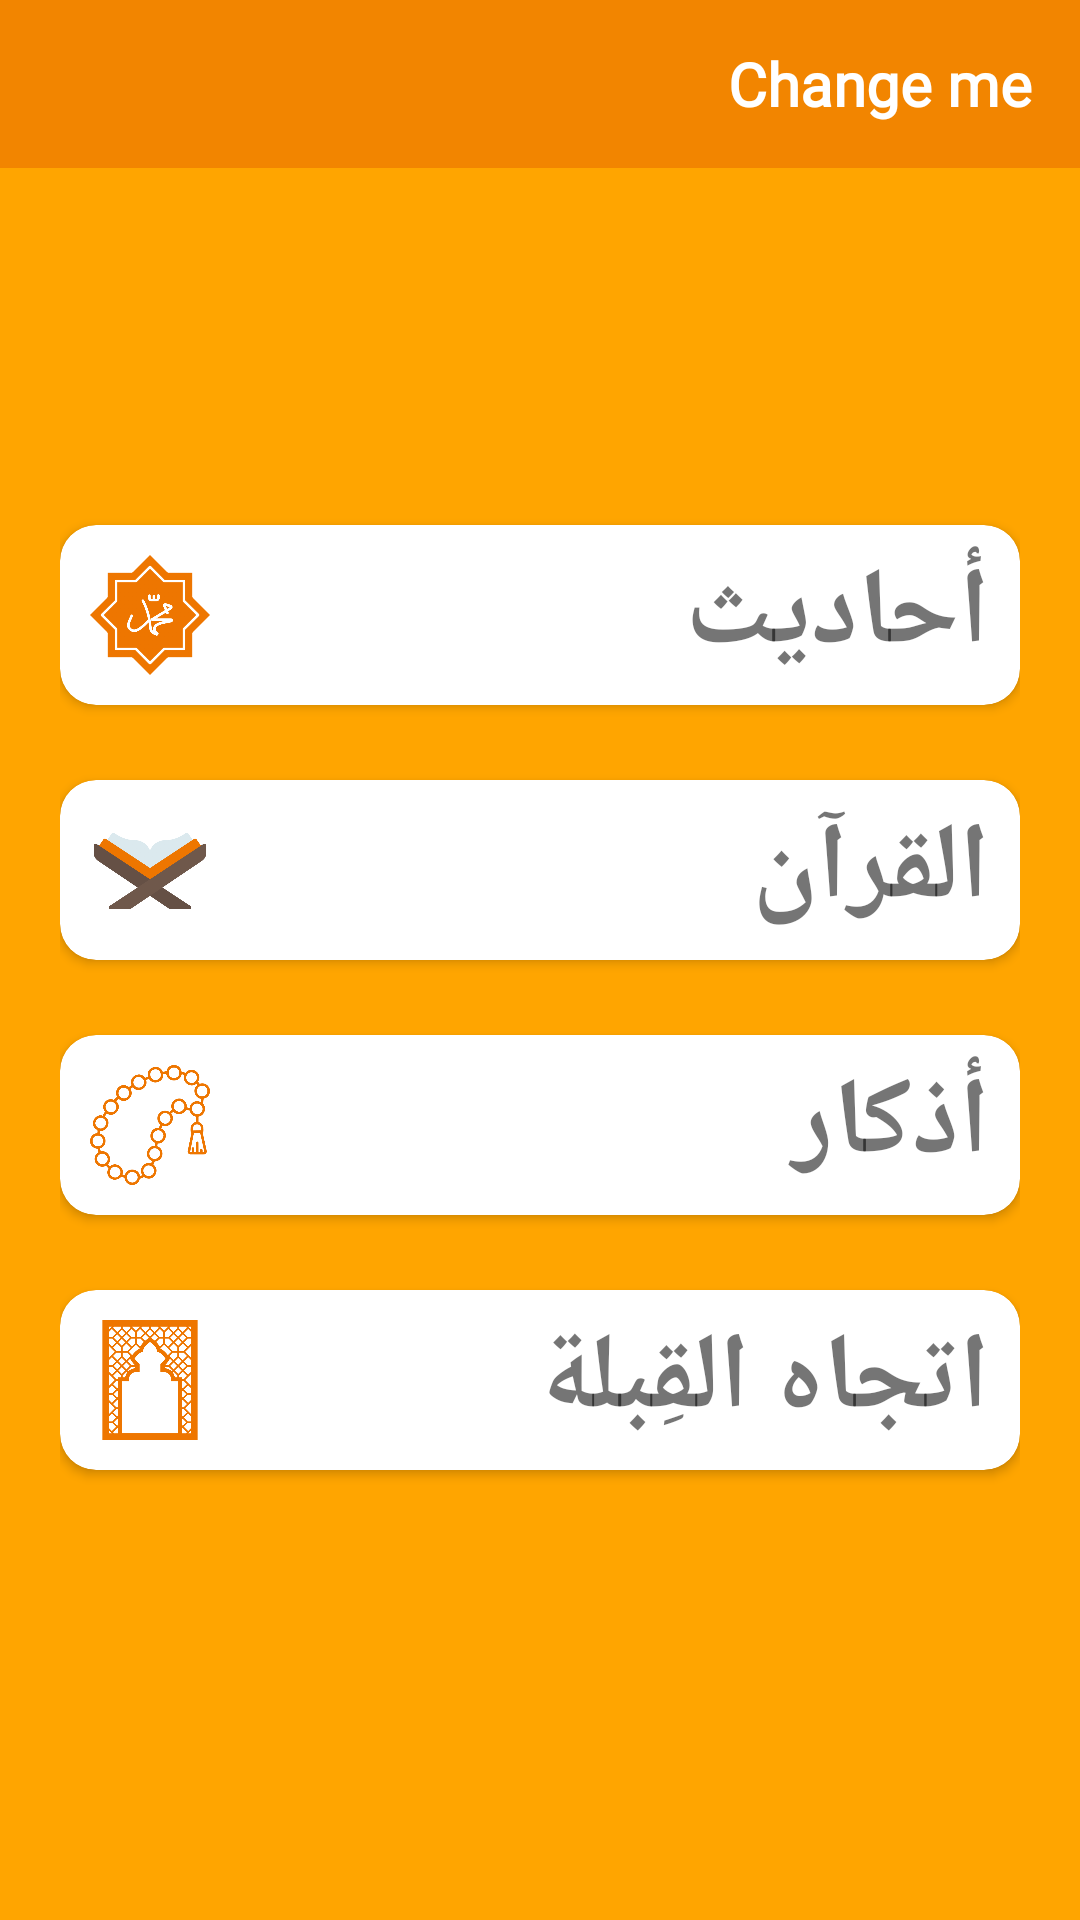

Icon bounding boxes for this 1080px x 1920px phone screenshot, format region(x1, y1, x2, y2):
ahadeth: region(60, 525, 210, 705)
azkar: region(60, 1035, 210, 1215)
ebla: region(60, 1290, 210, 1470)
quran: region(60, 780, 210, 960)
